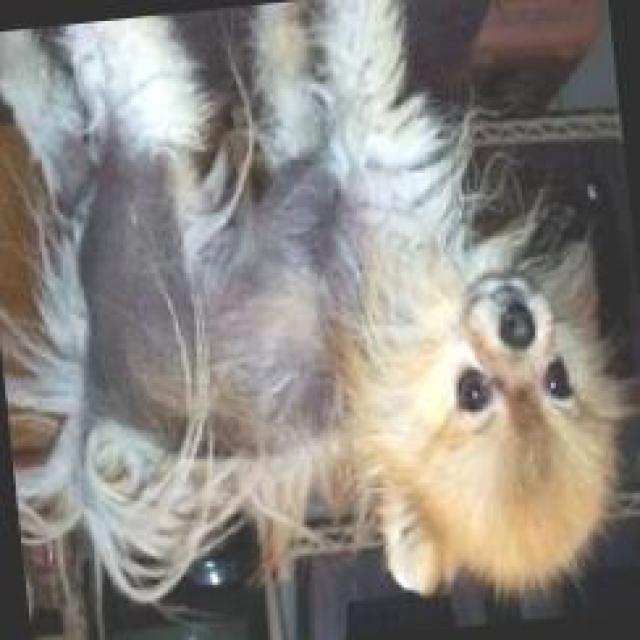fungal infection: (201, 276, 288, 342)
